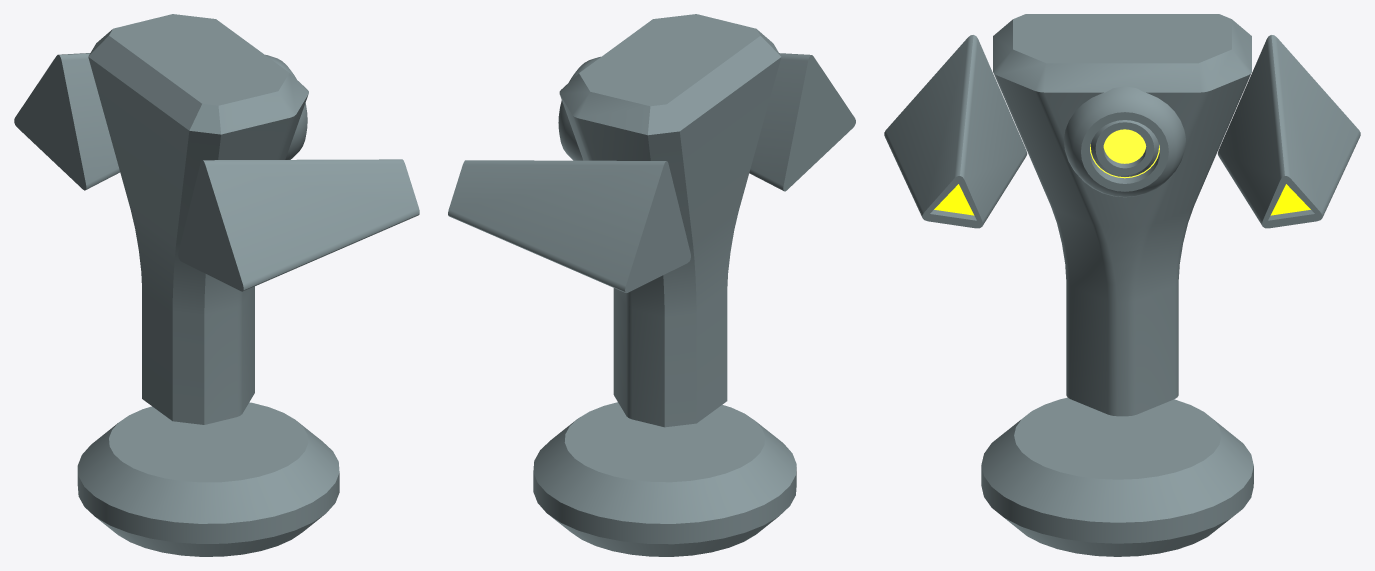
The model's file is SM_Andy_Capable_01.fbx.
3 views of the same model, side by side, from view 1: azimuth 30°, elevation 25°; view 2: azimuth 150°, elevation 25°; view 3: azimuth 270°, elevation 25° (orthographic). The views are drawn at different scales.
Visible parts, largest first — view 1: Handi_Target; view 2: Handi_Target; view 3: Handi_Target.
Boxes of the visible parts, x1=… form: Handi_Target: x1=14, y1=14, x2=419, y2=556; Handi_Target: x1=448, y1=14, x2=855, y2=556; Handi_Target: x1=884, y1=14, x2=1360, y2=556.
Bounding box in the file's own units: 126 × 235 × 215.
